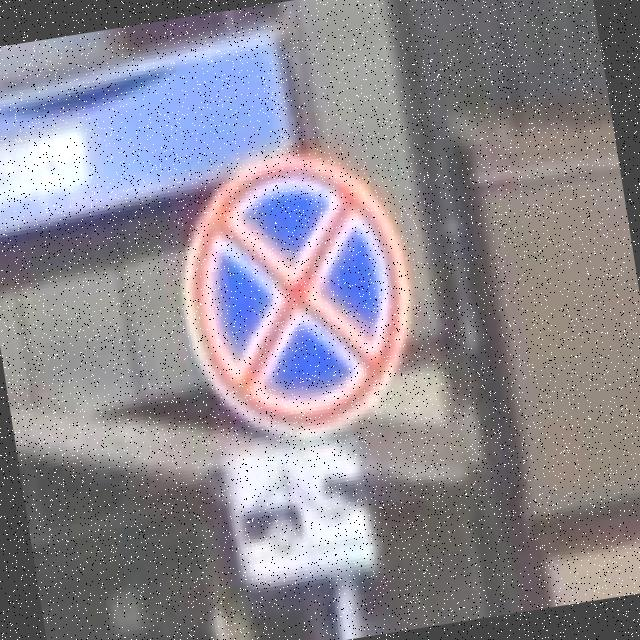Zakaz zatrzymywania sie: (162, 133, 432, 457)
